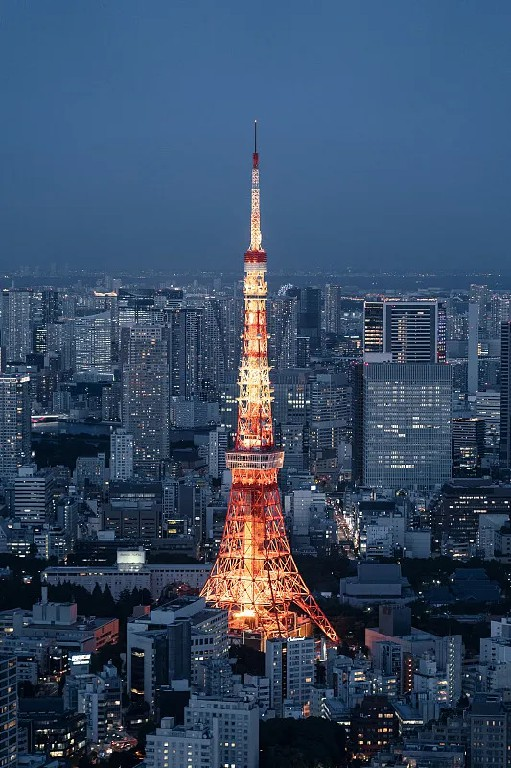Tokyo: (197, 116, 338, 647)
